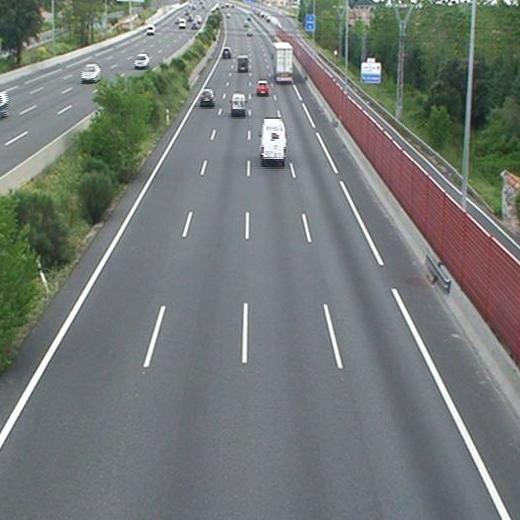car: (200, 90, 214, 107), (256, 81, 269, 95), (222, 47, 232, 58)
truck: (273, 42, 292, 82)
van: (260, 119, 286, 161), (232, 95, 245, 115), (238, 56, 248, 71)
